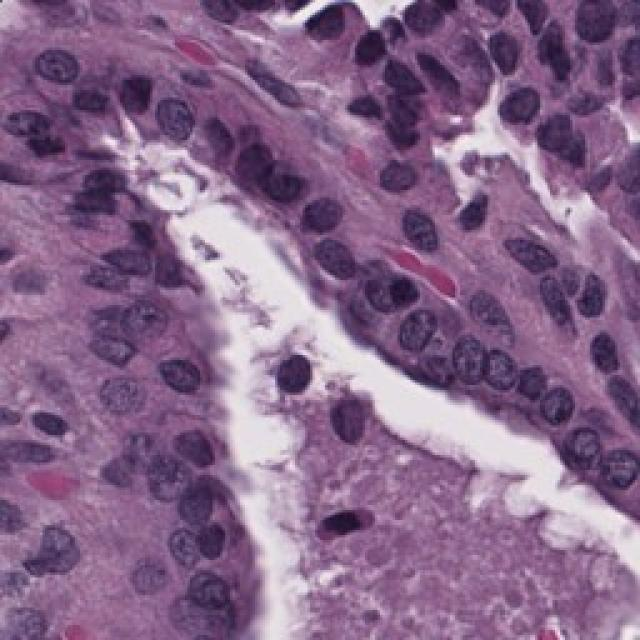abnormal: (73, 358, 167, 442), (133, 445, 215, 522), (146, 80, 211, 167), (155, 500, 217, 590), (450, 325, 512, 412), (288, 162, 350, 245), (142, 337, 218, 403), (388, 293, 450, 372), (385, 202, 462, 265), (165, 563, 237, 625), (497, 63, 550, 145), (120, 297, 178, 368), (535, 374, 585, 449), (30, 36, 85, 96), (535, 370, 582, 438), (601, 425, 640, 505), (295, 185, 348, 232)
